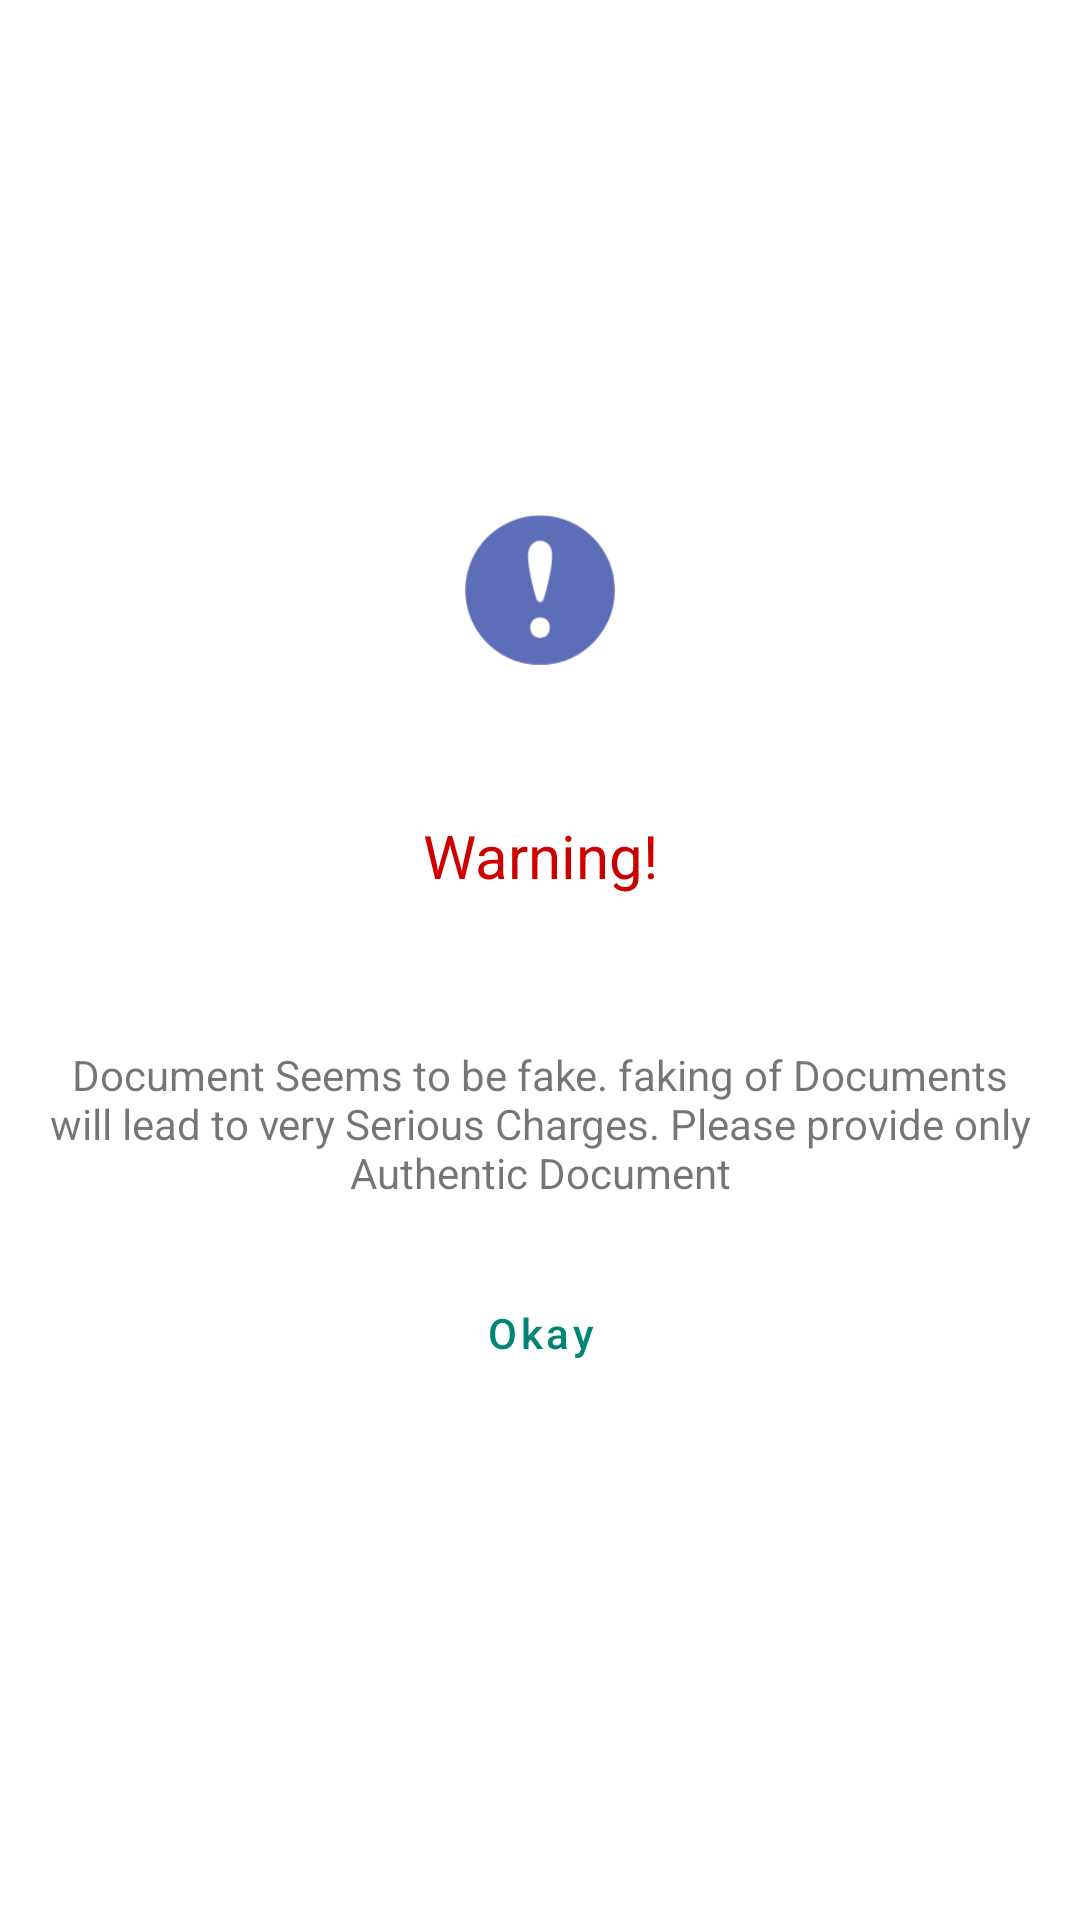

Where icons sit on this 1080w x 1920h app screen, as (left=x1, top=y1, right=x2, bottom=y2):
alert: (left=465, top=515, right=615, bottom=665)
